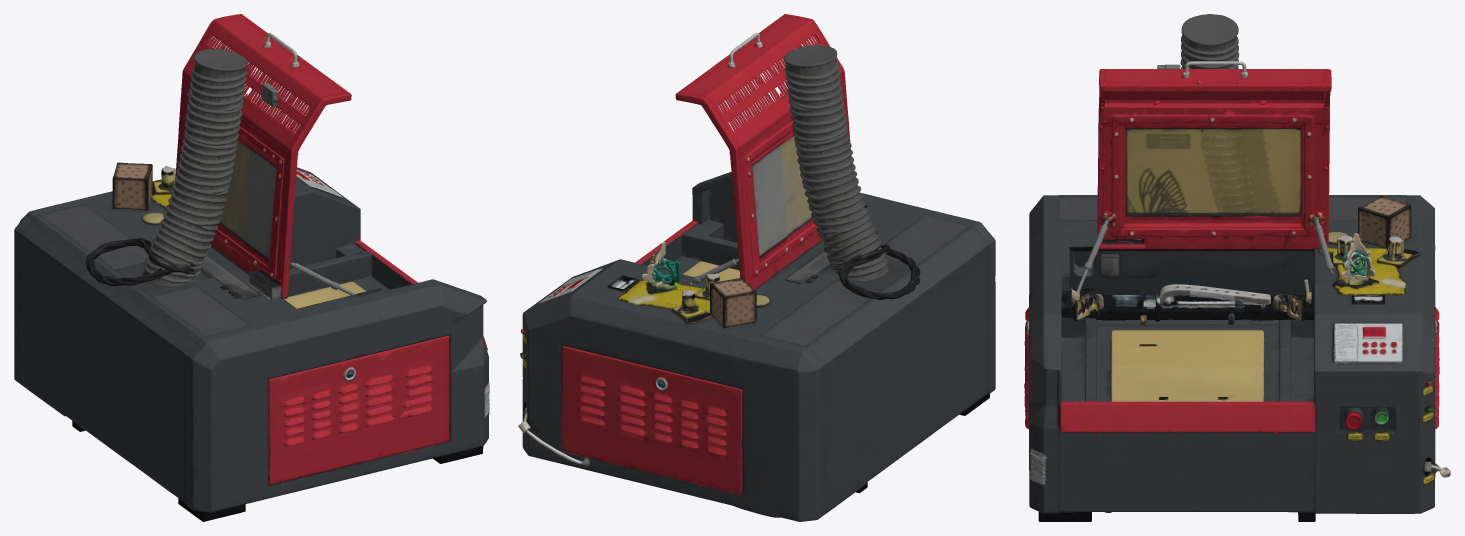
Rendered from mo7odcxlonp7.glb.
3 views of the same model, side by side, from view 1: azimuth 30°, elevation 25°; view 2: azimuth 150°, elevation 25°; view 3: azimuth 270°, elevation 25° (orthographic). The views are drawn at different scales.
Bounding box in the file's own units: 0.8506 × 1 × 0.959.
Materials: 1 (1 with a texture image).
